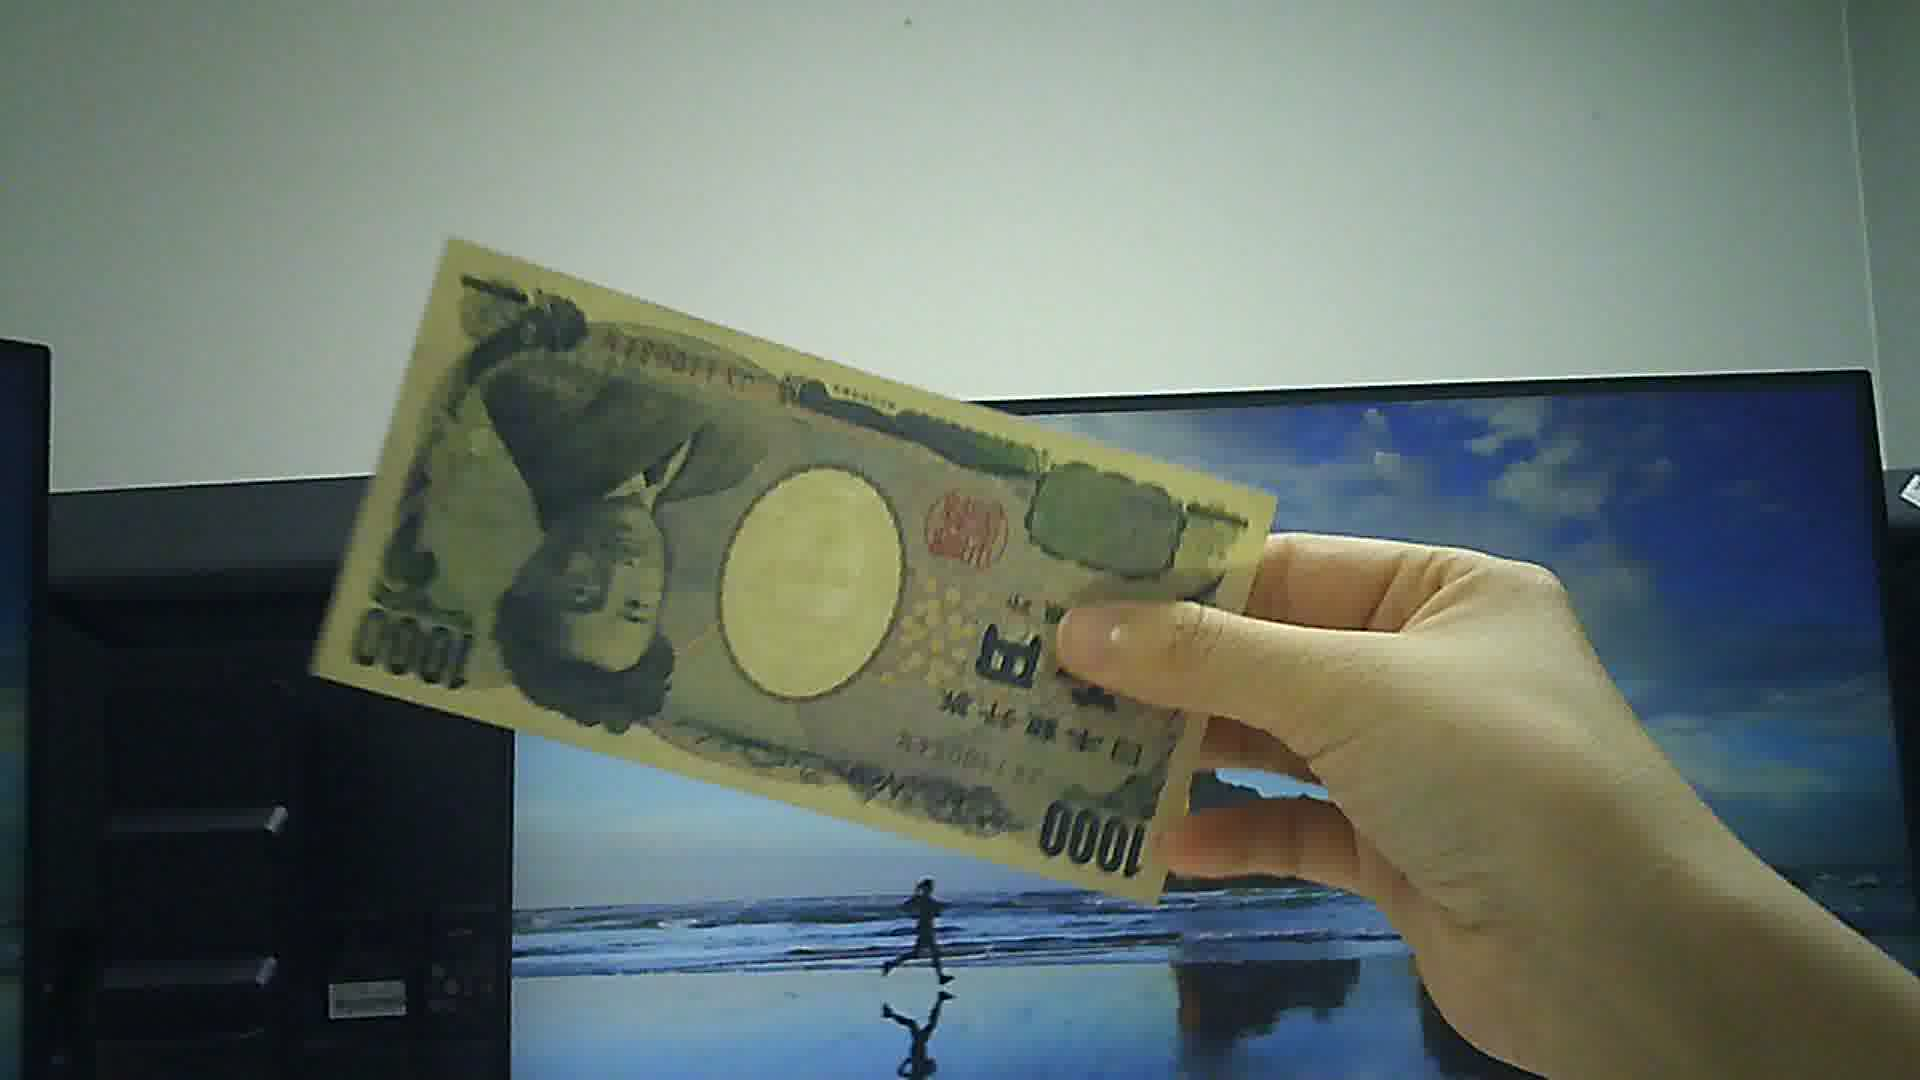1,000 Yen: (291, 224, 1267, 915)
